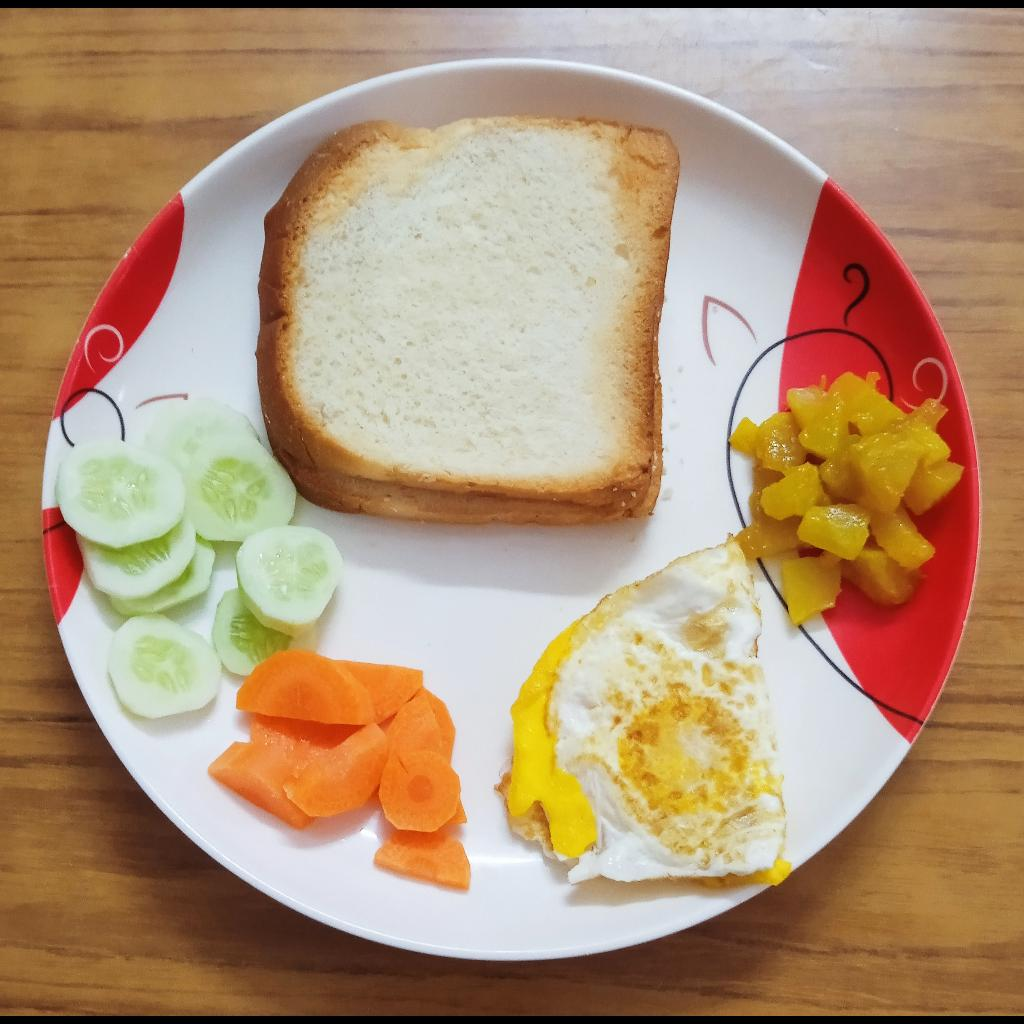bread: (252, 113, 682, 525)
carrot: (207, 643, 474, 891)
cucumber: (58, 396, 341, 724)
egg-poached: (495, 537, 790, 892)
lau: (722, 366, 960, 627)
